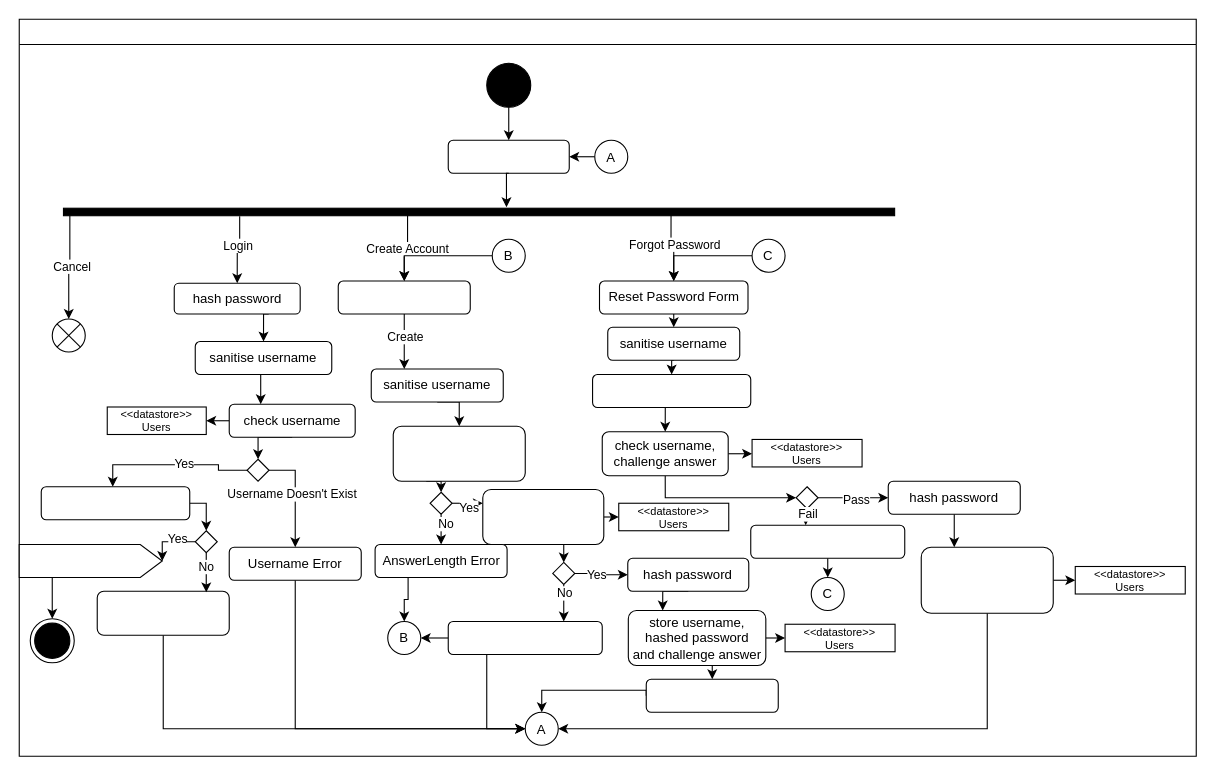
This 1216x776 diagram has some shape labels left out. The box of each missing label's shape, as (x1, y1, x2, y2) in pixels:
account created: (645, 678, 778, 712)
check hashedPasword: (40, 486, 190, 520)
hash challenge answer: (591, 373, 751, 408)
Incorrect Password Error: (96, 590, 229, 635)
InvalidCredentials Error: (750, 524, 905, 558)
InvalidUsername Error: (447, 620, 602, 654)
Login Form: (447, 139, 569, 173)
New Account Form: (337, 280, 470, 314)
SigLoggedIn(user_id): (18, 543, 162, 578)
update password based on username: (920, 546, 1053, 613)
validate challenge question answer (1 ≤ chars ≤ 30): (392, 425, 525, 481)
validate username unique, (1 ≤ chars ≤ 15): (482, 488, 604, 544)
